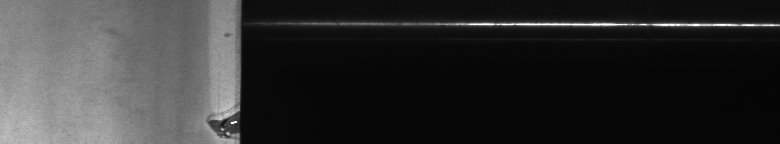hb: (201, 28, 228, 136)
